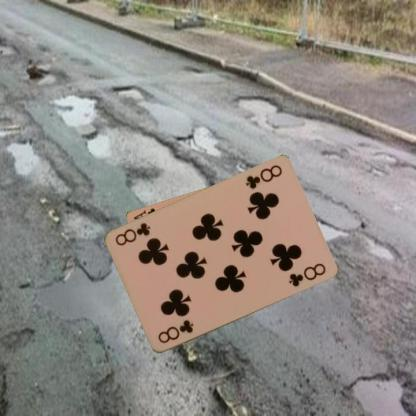8c: (243, 162, 283, 191), (155, 317, 195, 345)
